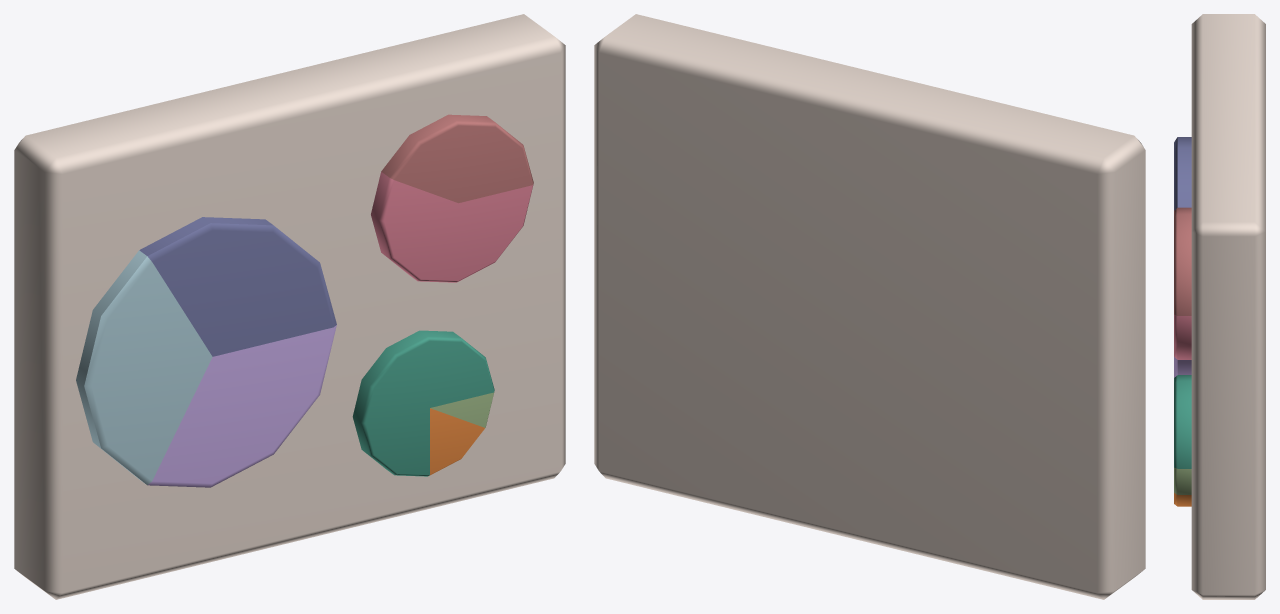
The model's file is Note_4.glb.
The picture shows the model from 3 angles, left to right: view 1: azimuth 30°, elevation 25°; view 2: azimuth 150°, elevation 25°; view 3: azimuth 270°, elevation 25°; orthographic projection. The views are drawn at different scales.
Visible parts, largest first — view 1: Note_4; view 2: Note_4; view 3: Note_4.
Part boxes in pixels (<box>): Note_4: <box>14,14,565,599</box>; Note_4: <box>594,14,1145,599</box>; Note_4: <box>1174,14,1265,599</box>.
Size of the model in its own units: 0.634 by 0.5143 by 0.1132.
1 material, 1 textured.
